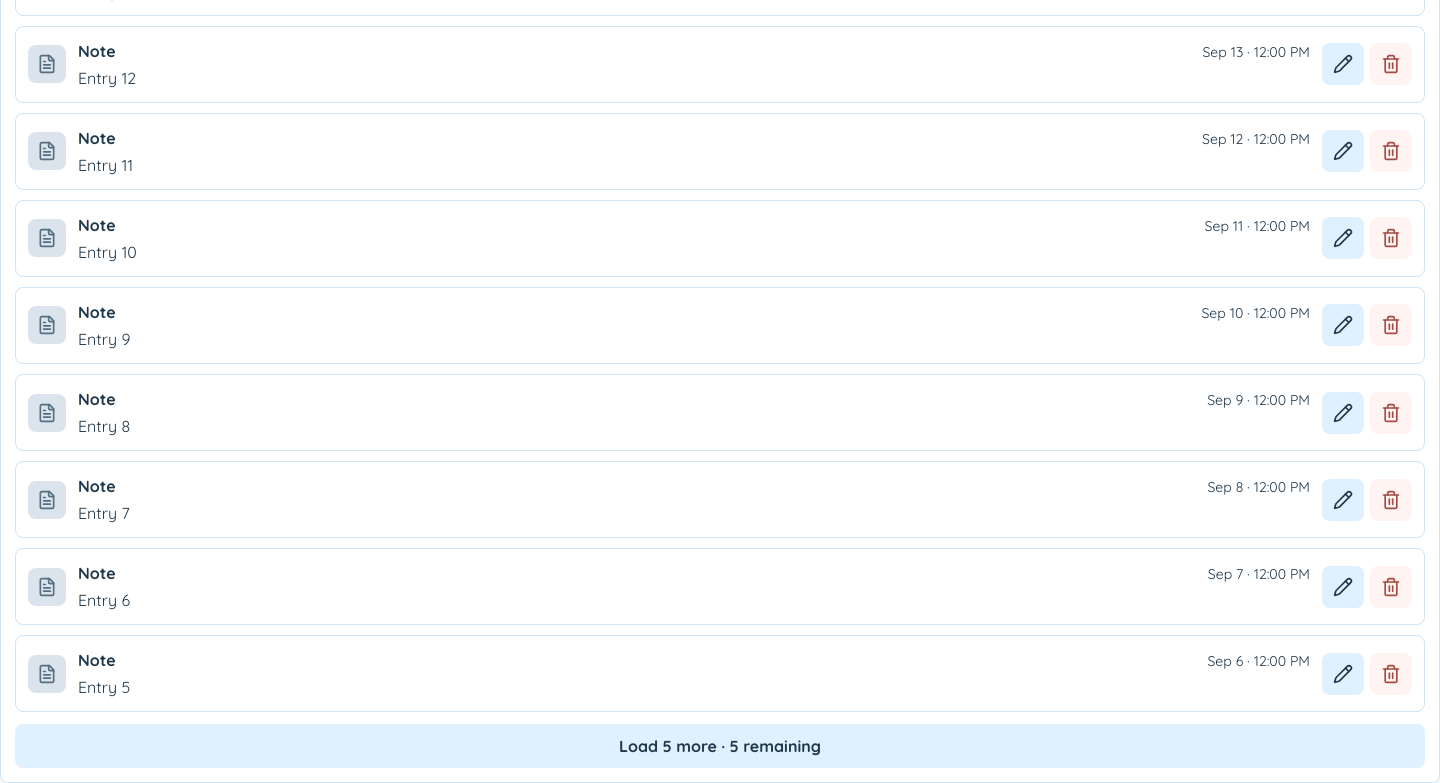
Test: Log ordering › shows the newest entry times first before paging, regardless of API row order
(page scrolled)
Expected: the text "Entry 0" is not shown
Step 1. Click the button "Load 5 more · 5 remaining" → coordinates (720, 746), box [15, 724, 1425, 768]
(page scrolled)
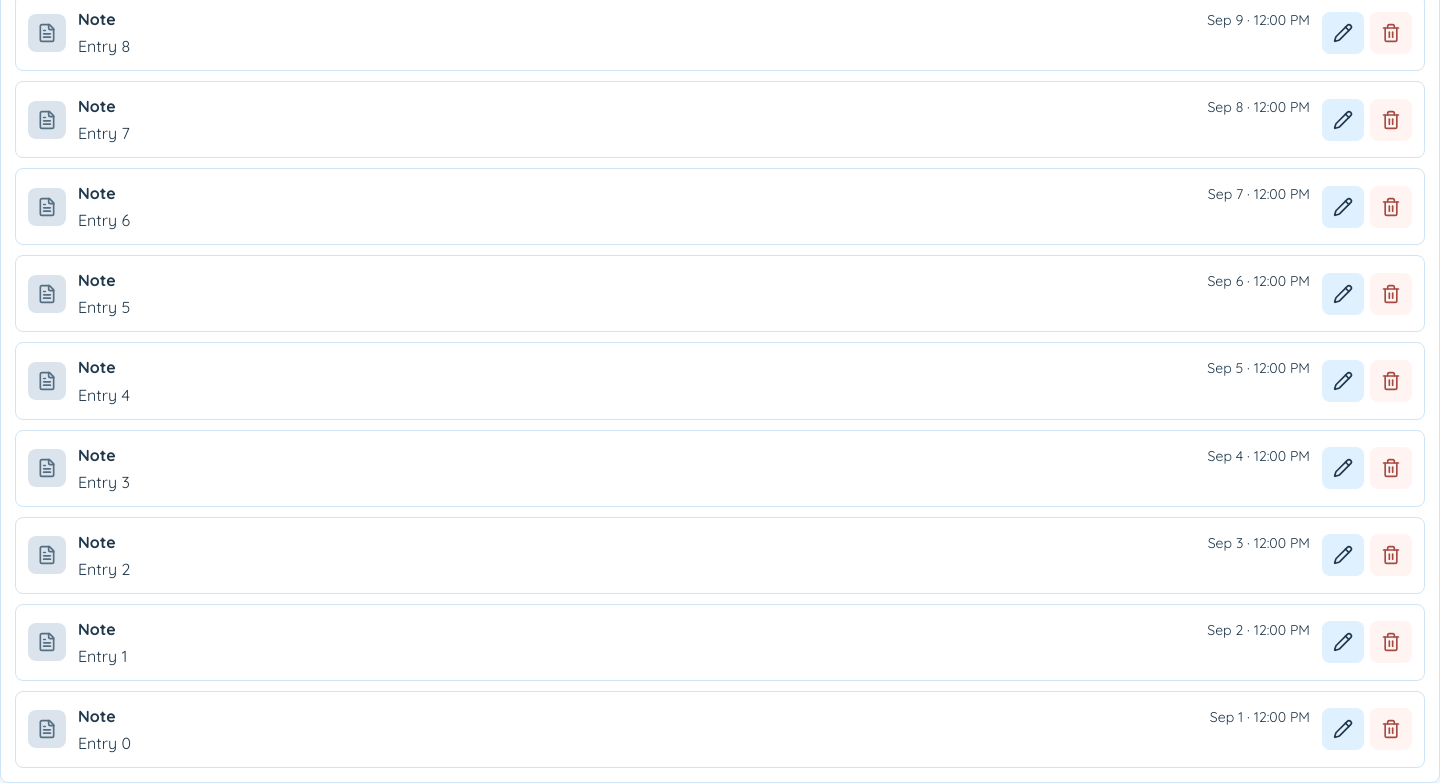
Now the text "Entry 0" is shown, box [78, 733, 131, 753]
